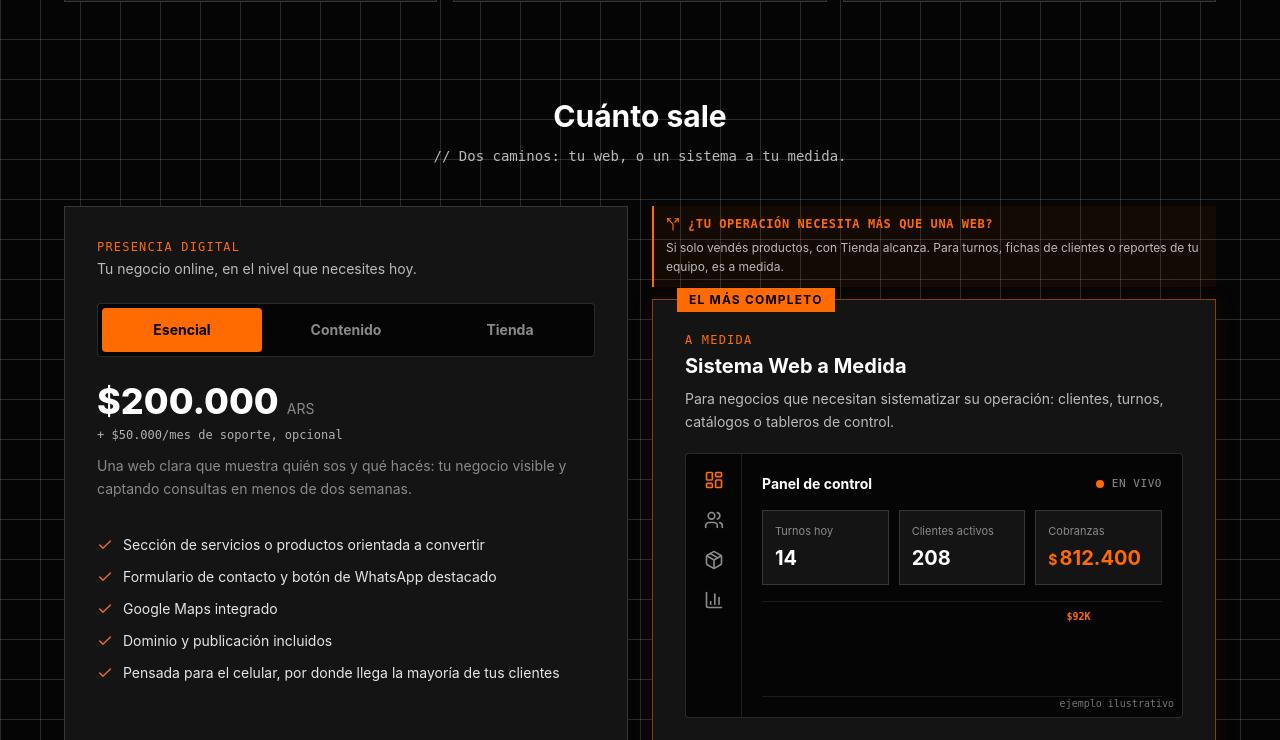
Desarrollo page › switches price and pitch when a different presencia level is selected
(page scrolled)
expect the text "$200.000" is shown: met, box [97, 381, 279, 421]
Click the button "Contenido": {"x": 346, "y": 330} [266, 308, 426, 352]
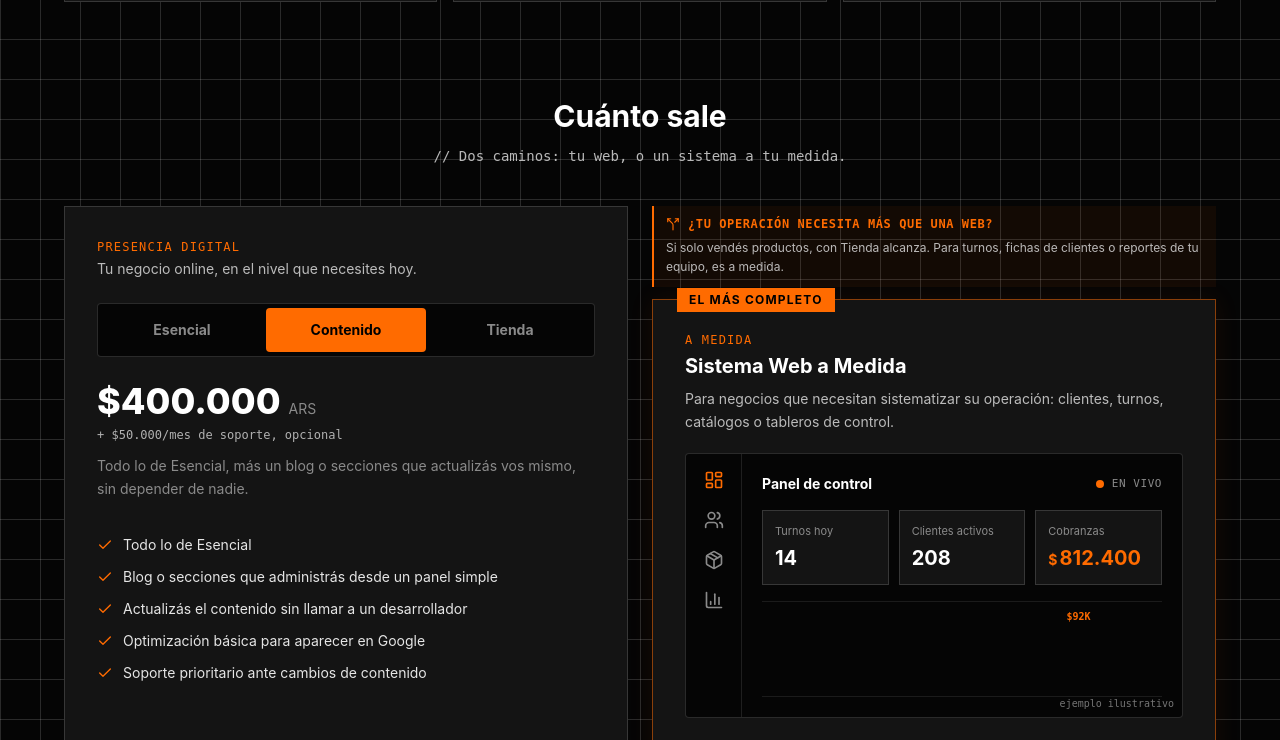
expect the text "$200.000" is not shown: met
expect the text "$400.000" is shown: met, box [97, 381, 281, 421]
expect the text "Todo lo de Esencial, más un blog" is shown: met, box [97, 457, 576, 497]
